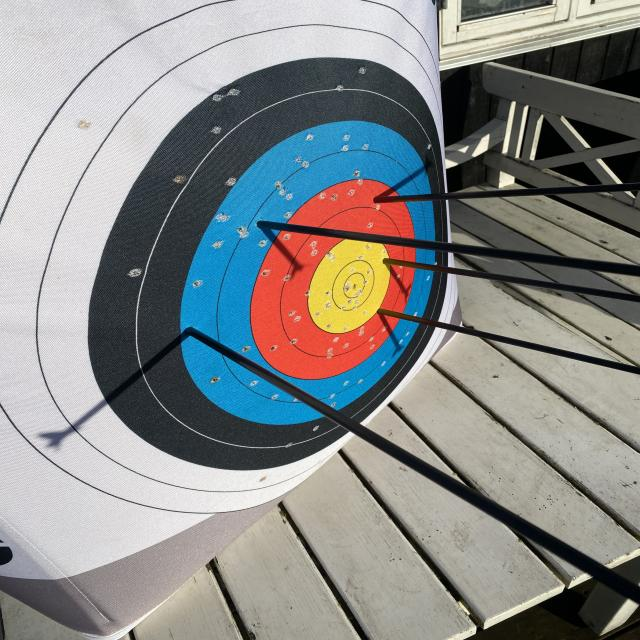Arrow_Blue: (166, 314, 210, 346), (240, 208, 283, 240)
Arrow_Red: (357, 187, 400, 215), (366, 302, 400, 326)
Arrow_Yellow: (374, 252, 411, 274)
